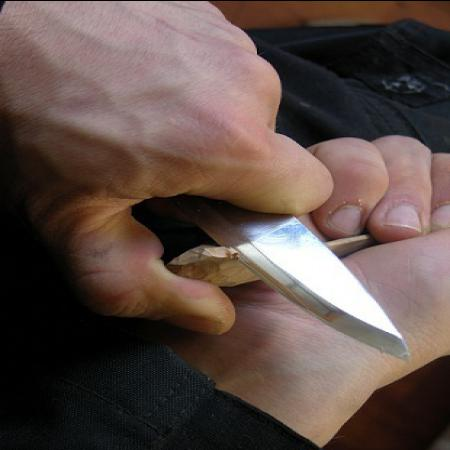long weapon: (137, 157, 420, 367)
